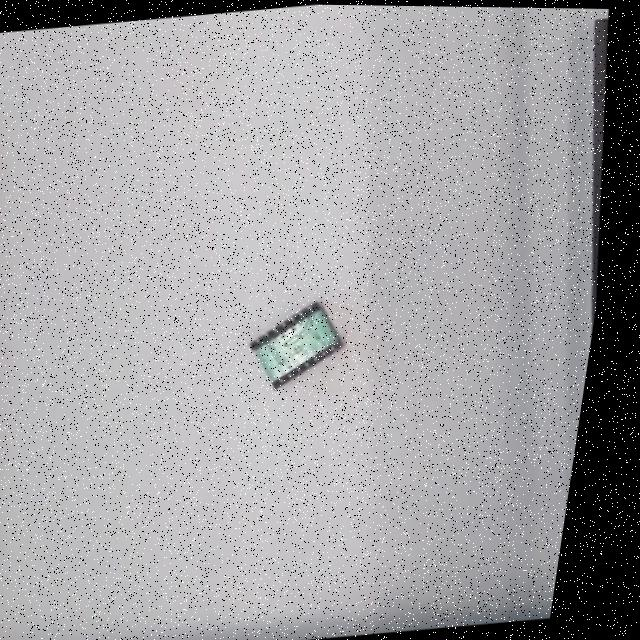Chip: (233, 292, 358, 395)
